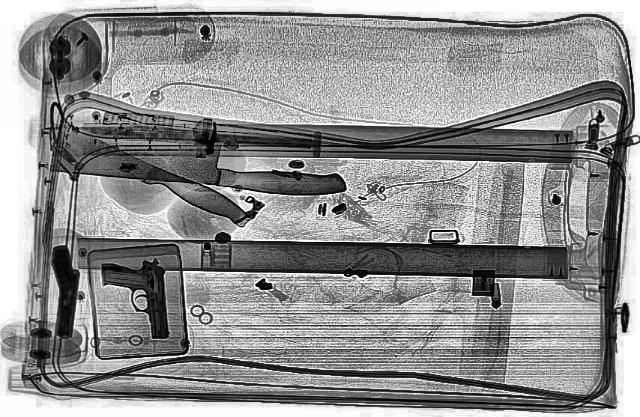Gun: (98, 258, 172, 340), (50, 240, 80, 338)
Knife: (45, 117, 358, 198), (54, 121, 256, 227), (74, 116, 314, 152)
